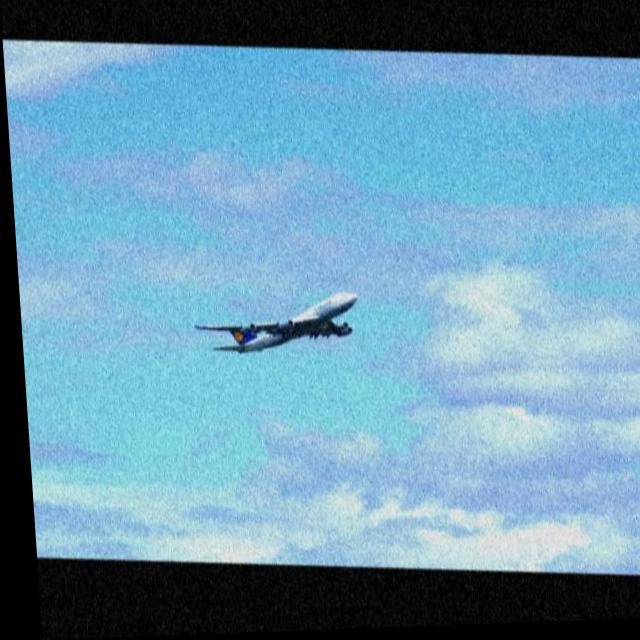airplane: (186, 289, 358, 361)
